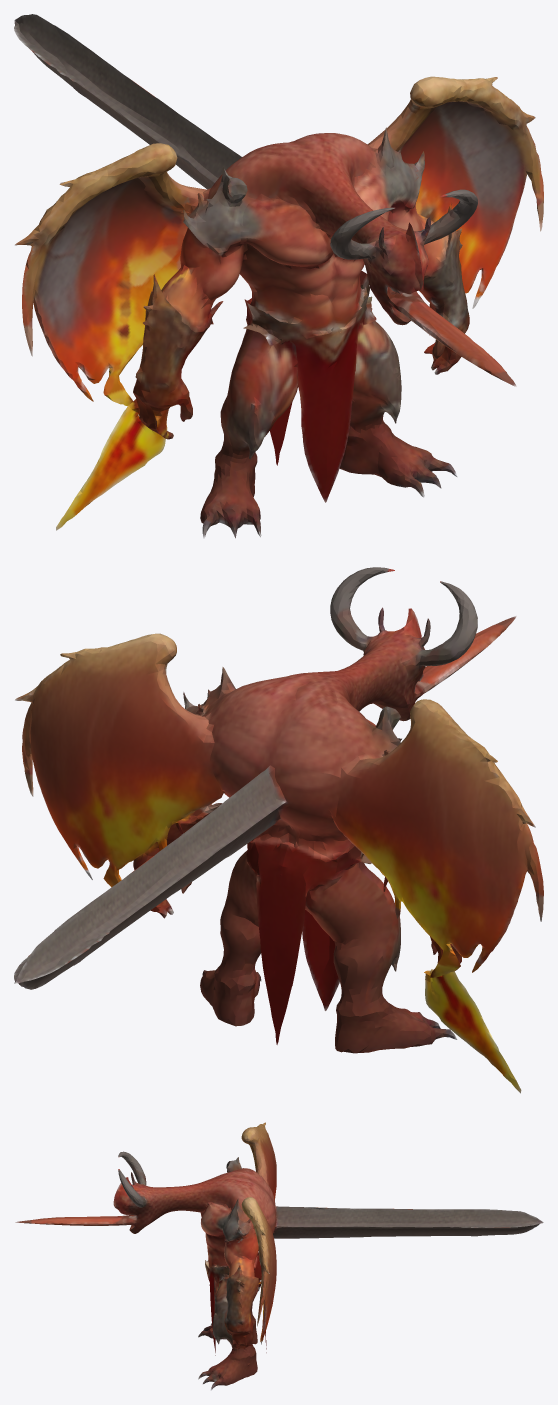
File: boss_demon_lord.glb
The picture shows the model from 3 angles, top to bottom: view 1: azimuth 30°, elevation 25°; view 2: azimuth 150°, elevation 25°; view 3: azimuth 270°, elevation 25°; orthographic projection. The views are drawn at different scales.
Parts seen in each view (by area): view 1: boss_demon_lord; view 2: boss_demon_lord; view 3: boss_demon_lord.
Boxes of the visible parts, x1,y1,x2,y2 form: boss_demon_lord: [14, 14, 543, 538]; boss_demon_lord: [14, 567, 543, 1093]; boss_demon_lord: [15, 1122, 543, 1390].
Bounding box in the file's own units: 1.13 × 0.7705 × 1.89.
1 material, 1 textured.
